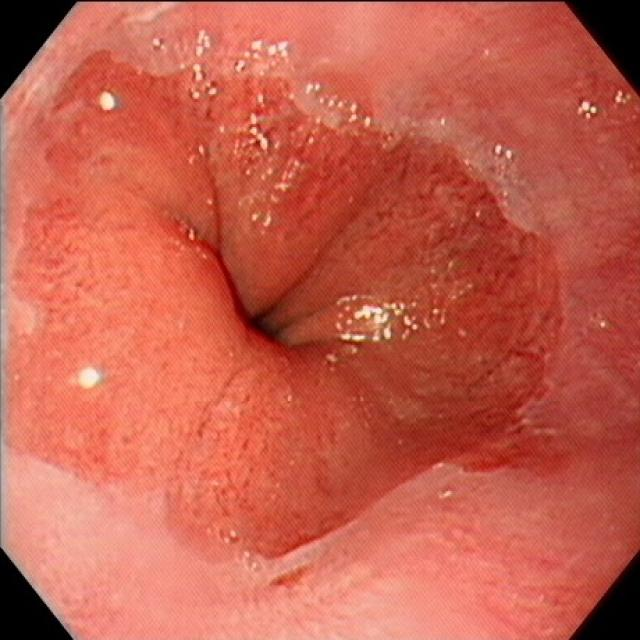I: (7, 47, 565, 589)
U: (336, 294, 417, 343), (191, 31, 220, 100), (236, 40, 291, 73), (240, 111, 278, 156), (76, 368, 104, 390), (97, 91, 119, 113)
